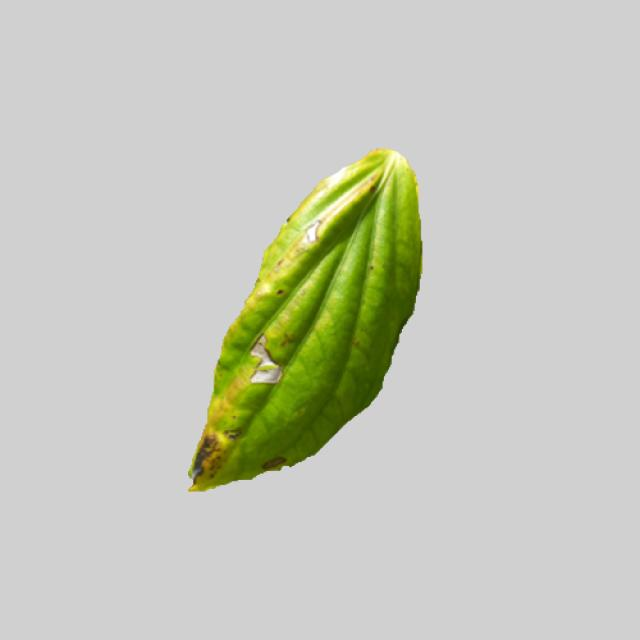yellow-mottle-virus: (184, 146, 424, 491)
